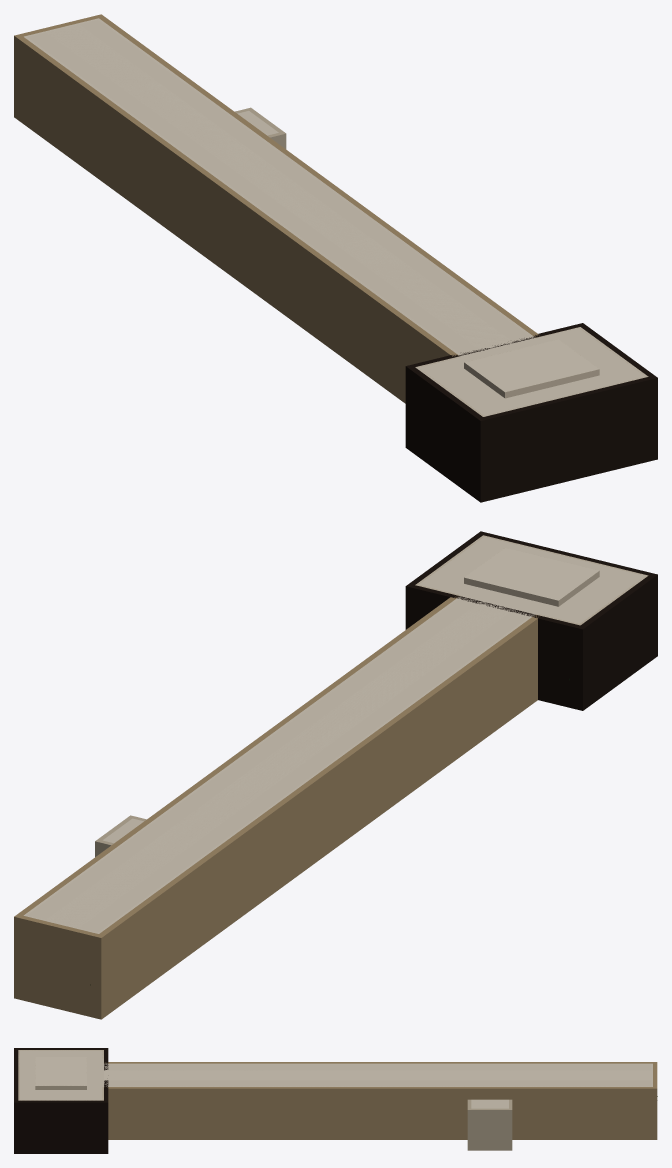
The model's file is int_hotel_corridor.glb.
3 renders of one model, top to bottom at view 1: azimuth 30°, elevation 25°; view 2: azimuth 150°, elevation 25°; view 3: azimuth 270°, elevation 25°, orthographic. The views are drawn at different scales.
Parts seen in each view (by area): view 1: ROOM; view 2: ROOM; view 3: ROOM.
Part boxes in pixels (x1,y1,x2,y2): ROOM: [14, 14, 657, 502]; ROOM: [14, 531, 657, 1019]; ROOM: [14, 1048, 657, 1153].
Bounding box in the file's own units: 7.5 × 3.55 × 37.53.
